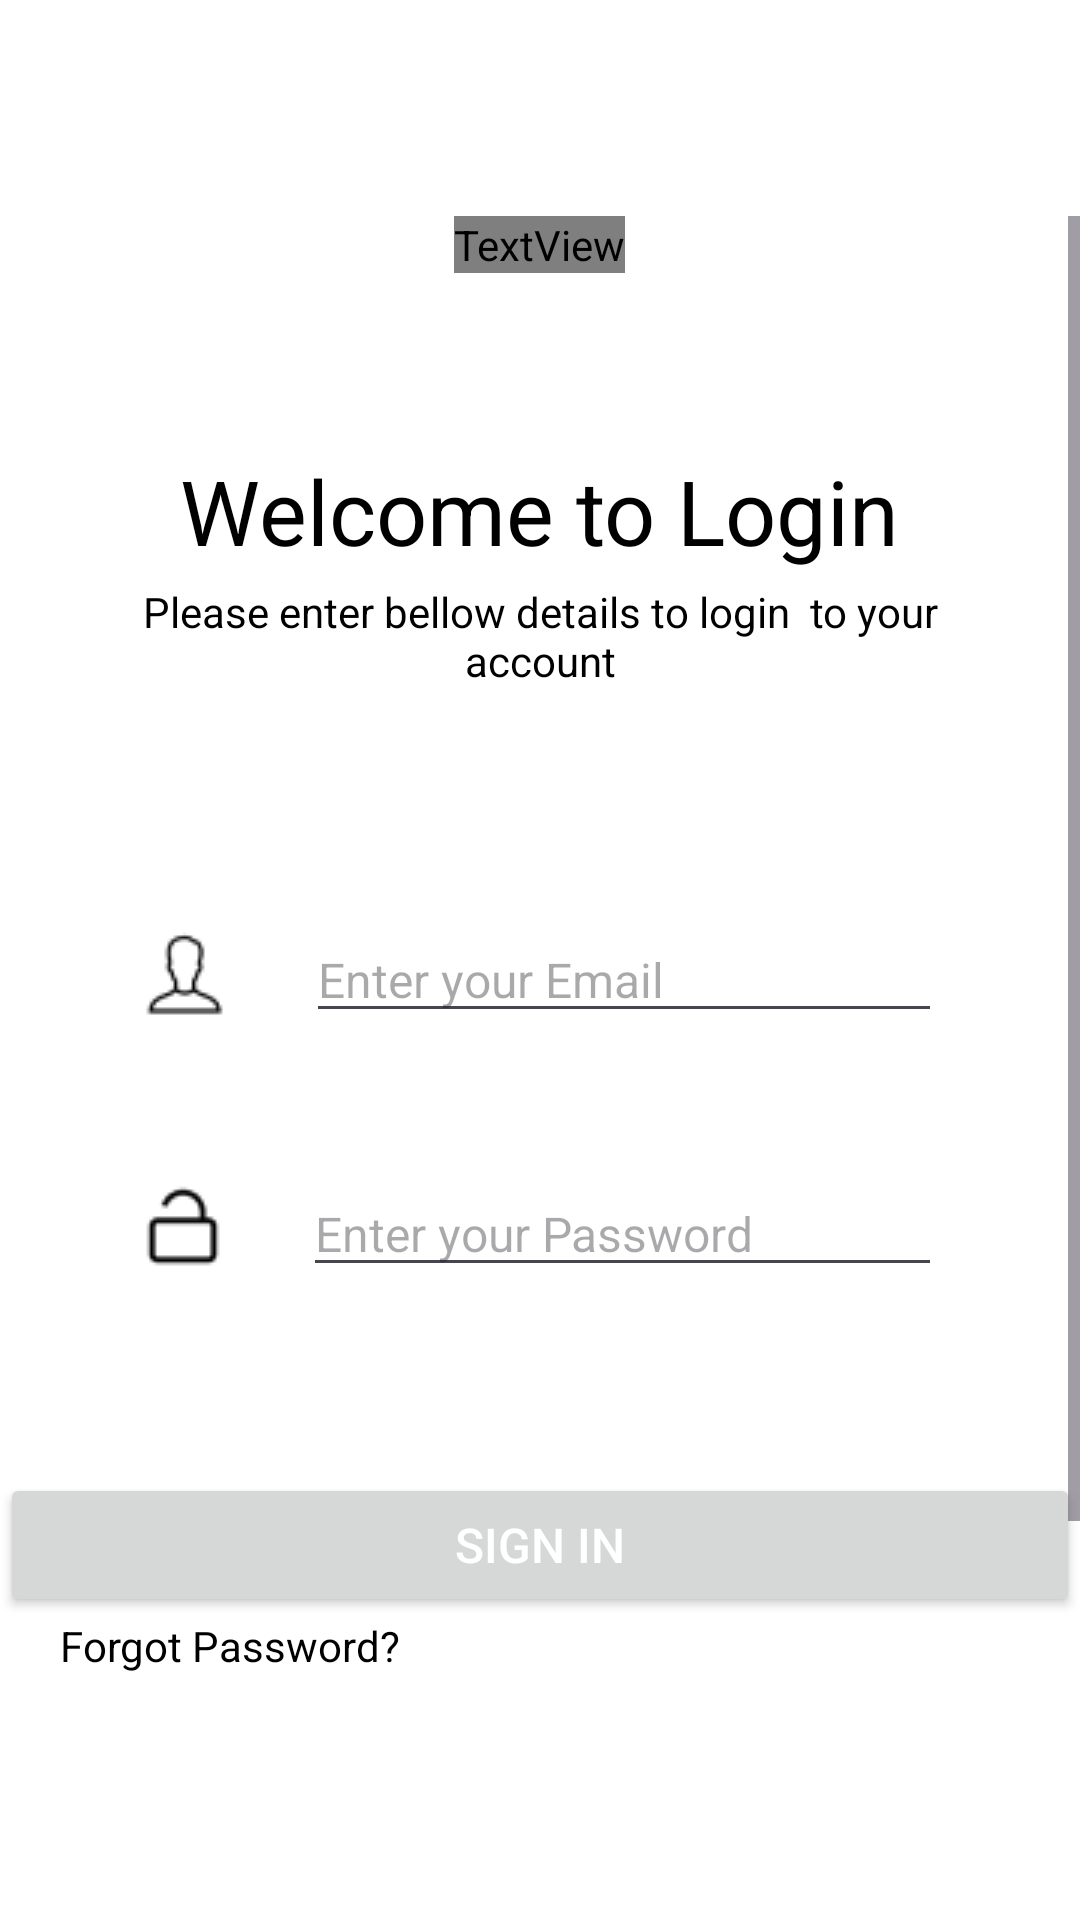

Screen size 1080x1920. Icon name, then its box in pixels as (x1, y1, x2, y2):
account: (146, 935, 223, 1015)
padlock: (147, 1187, 219, 1265)
